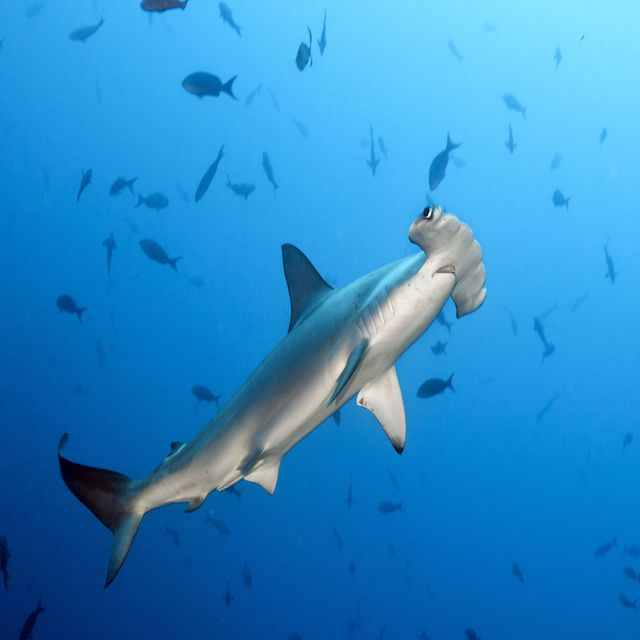hammerhead: (68, 202, 487, 574)
